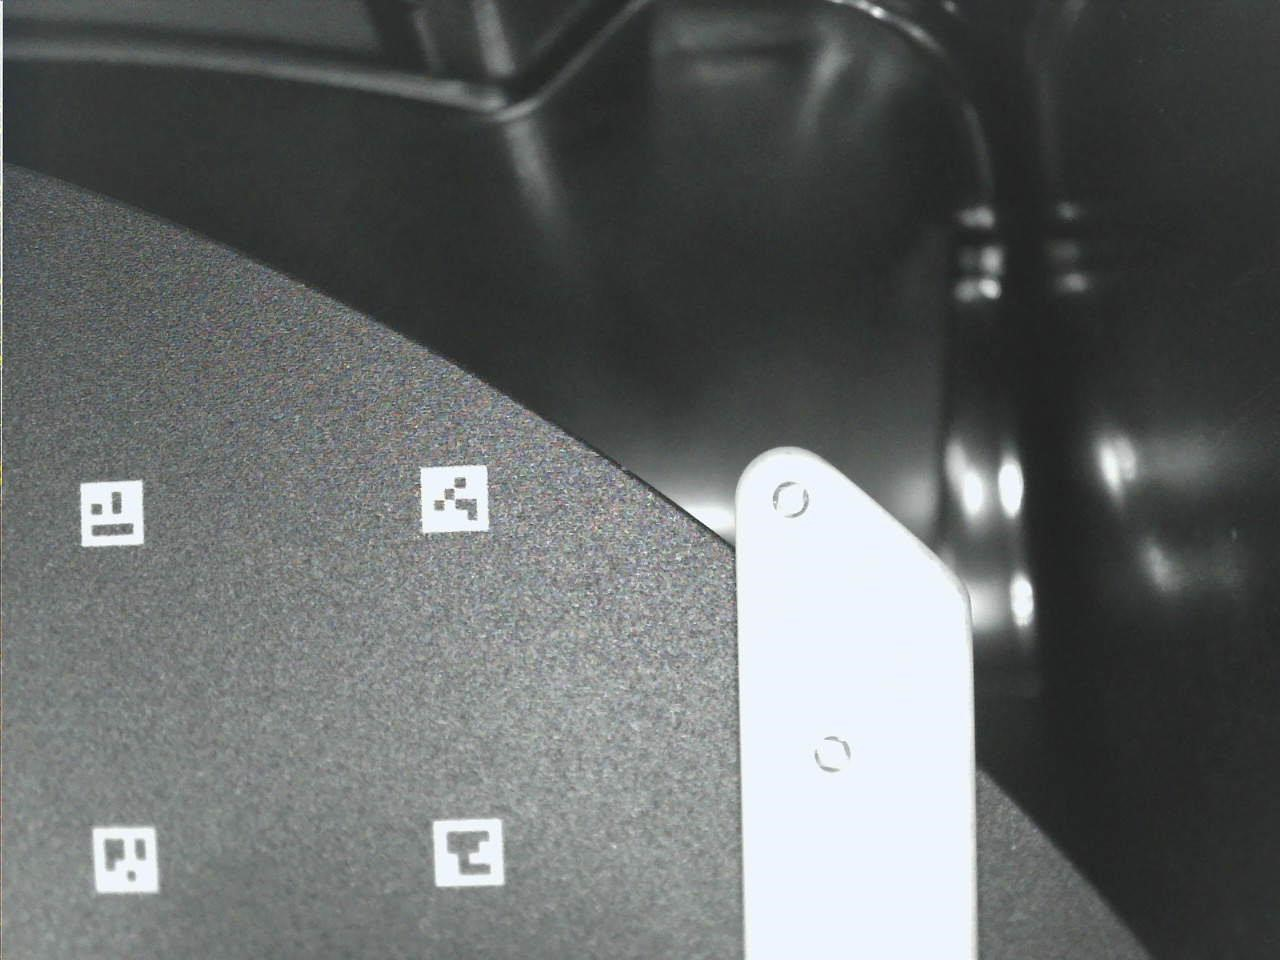forktip: (719, 417, 1001, 960)
